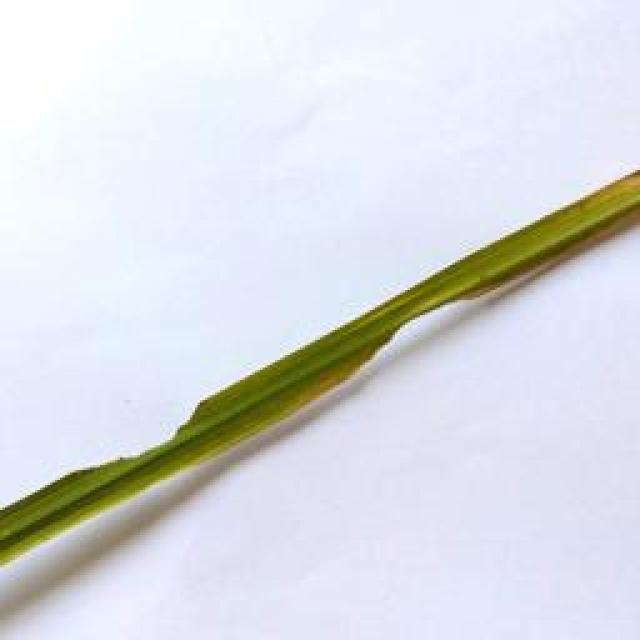Bacterial_Blight: (0, 160, 640, 576)
